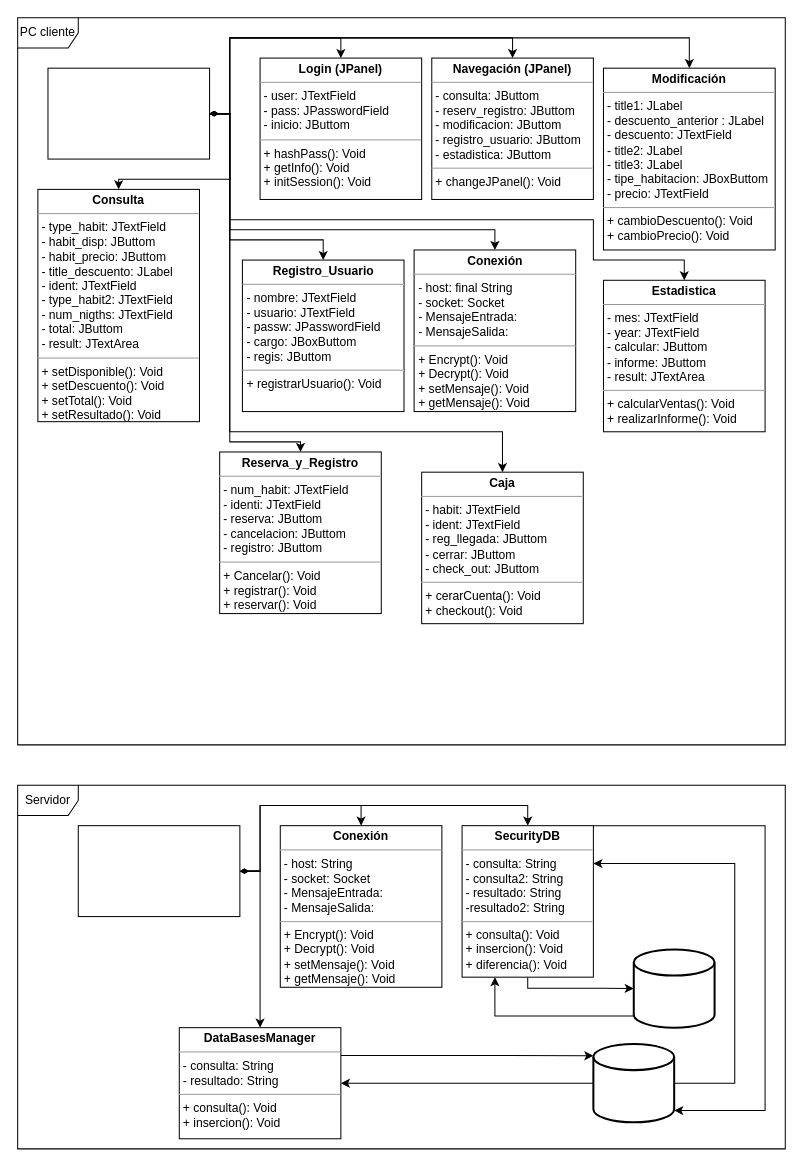
Some shapes in this 803 by 1167 pixel diagram are drawn without their labels. Each missing label, with the centre of its shape:
BD: point 633,1083
BD Backup: point 673,988
Cliente - caja: Container - layout: BorderLayout + conectar(): Void: point 128,113
Servidor + start(): Void + stop():Void: point 158,871
